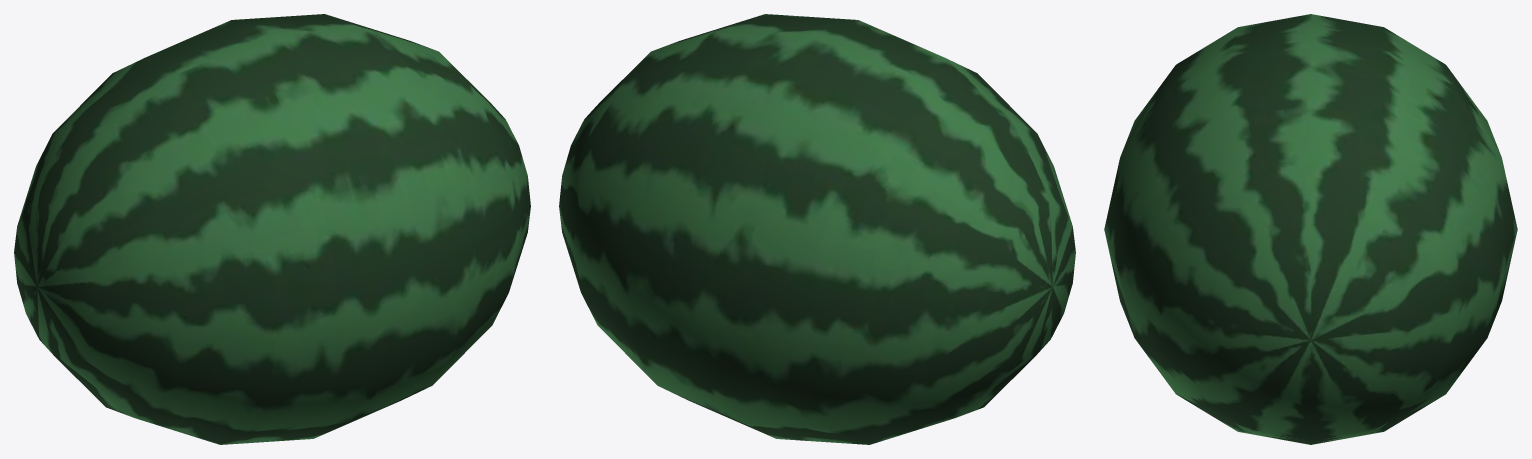
The model's file is watermelon-webp.glb.
3 renders of one model, left to right at view 1: azimuth 30°, elevation 25°; view 2: azimuth 150°, elevation 25°; view 3: azimuth 270°, elevation 25°, orthographic. The views are drawn at different scales.
Visible parts, largest first — view 1: watermelon; view 2: watermelon; view 3: watermelon.
Boxes of the visible parts, <box> form: watermelon: <box>14,14,530,444</box>; watermelon: <box>559,14,1075,444</box>; watermelon: <box>1104,14,1517,444</box>.
Bounding box in the file's own units: 0.9699 × 0.7647 × 0.7647.
1 material, 1 textured.
